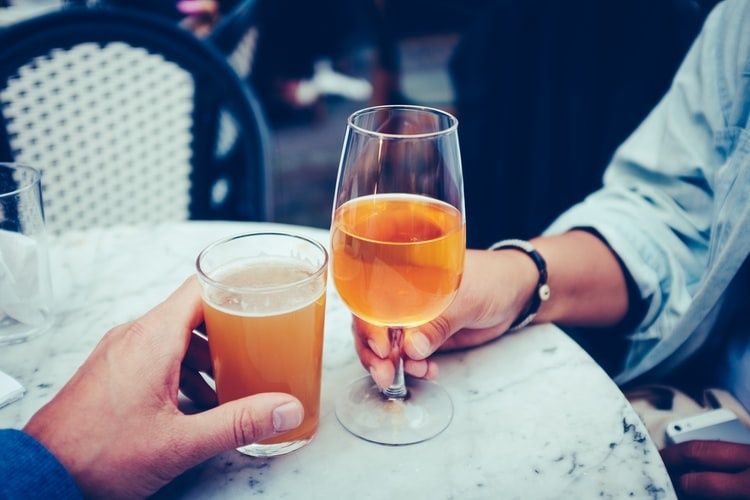whiskey: (328, 115, 468, 427), (205, 234, 312, 453)
